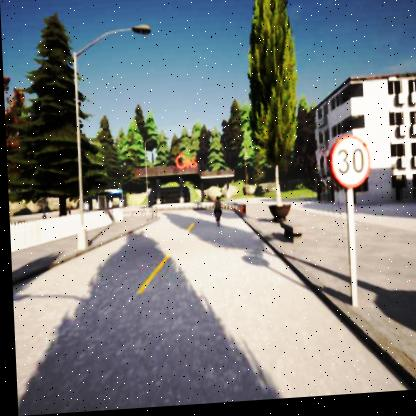motobike: (209, 199, 221, 229)
